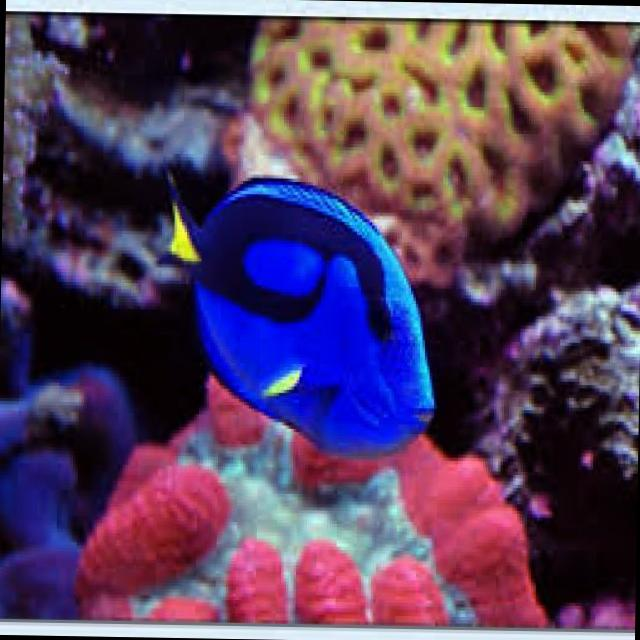TangFish: (156, 156, 438, 465)
